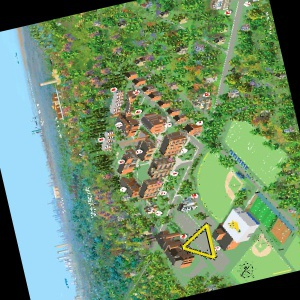triangle: (177, 219, 219, 263)
